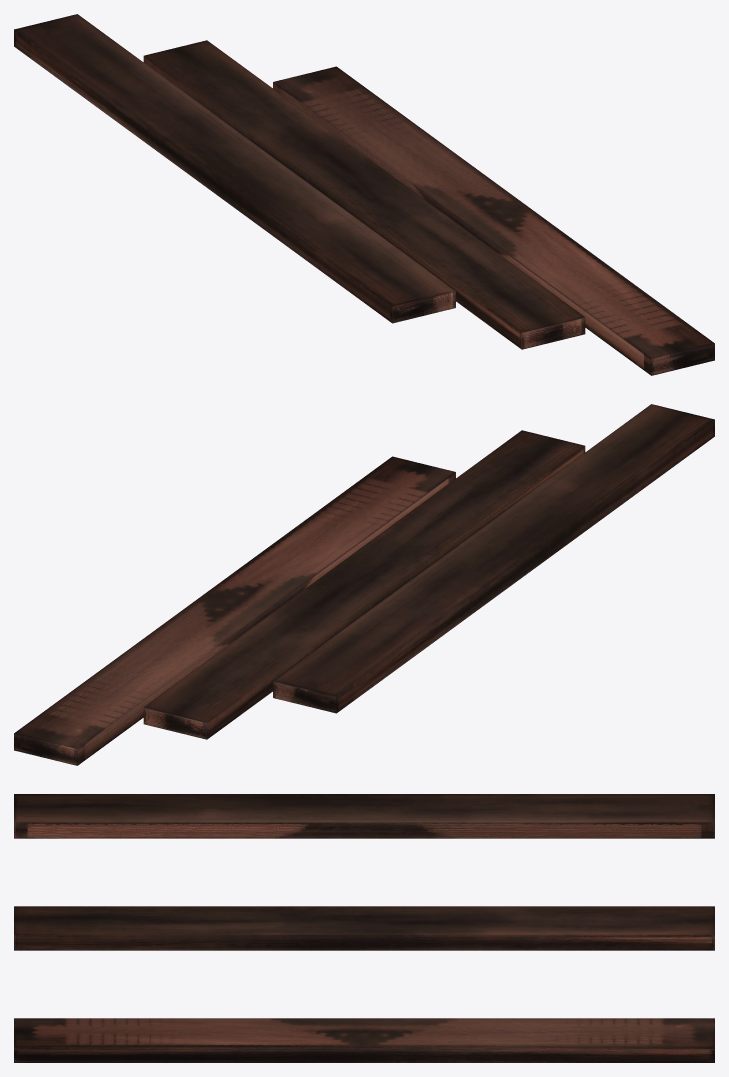
File: shelf.glb
3 renders of one model, top to bottom at view 1: azimuth 30°, elevation 25°; view 2: azimuth 150°, elevation 25°; view 3: azimuth 270°, elevation 25°, orthographic. The views are drawn at different scales.
Visible parts, largest first — view 1: Mesh_0; view 2: Mesh_0; view 3: Mesh_0.
Part boxes in pixels (x1=…): Mesh_0: x1=14, y1=14, x2=714, y2=375; Mesh_0: x1=14, y1=404, x2=714, y2=765; Mesh_0: x1=14, y1=794, x2=714, y2=1062.
Bounding box in the file's own units: 0.9845 × 0.3869 × 2.
Materials: 1 (1 with a texture image).
